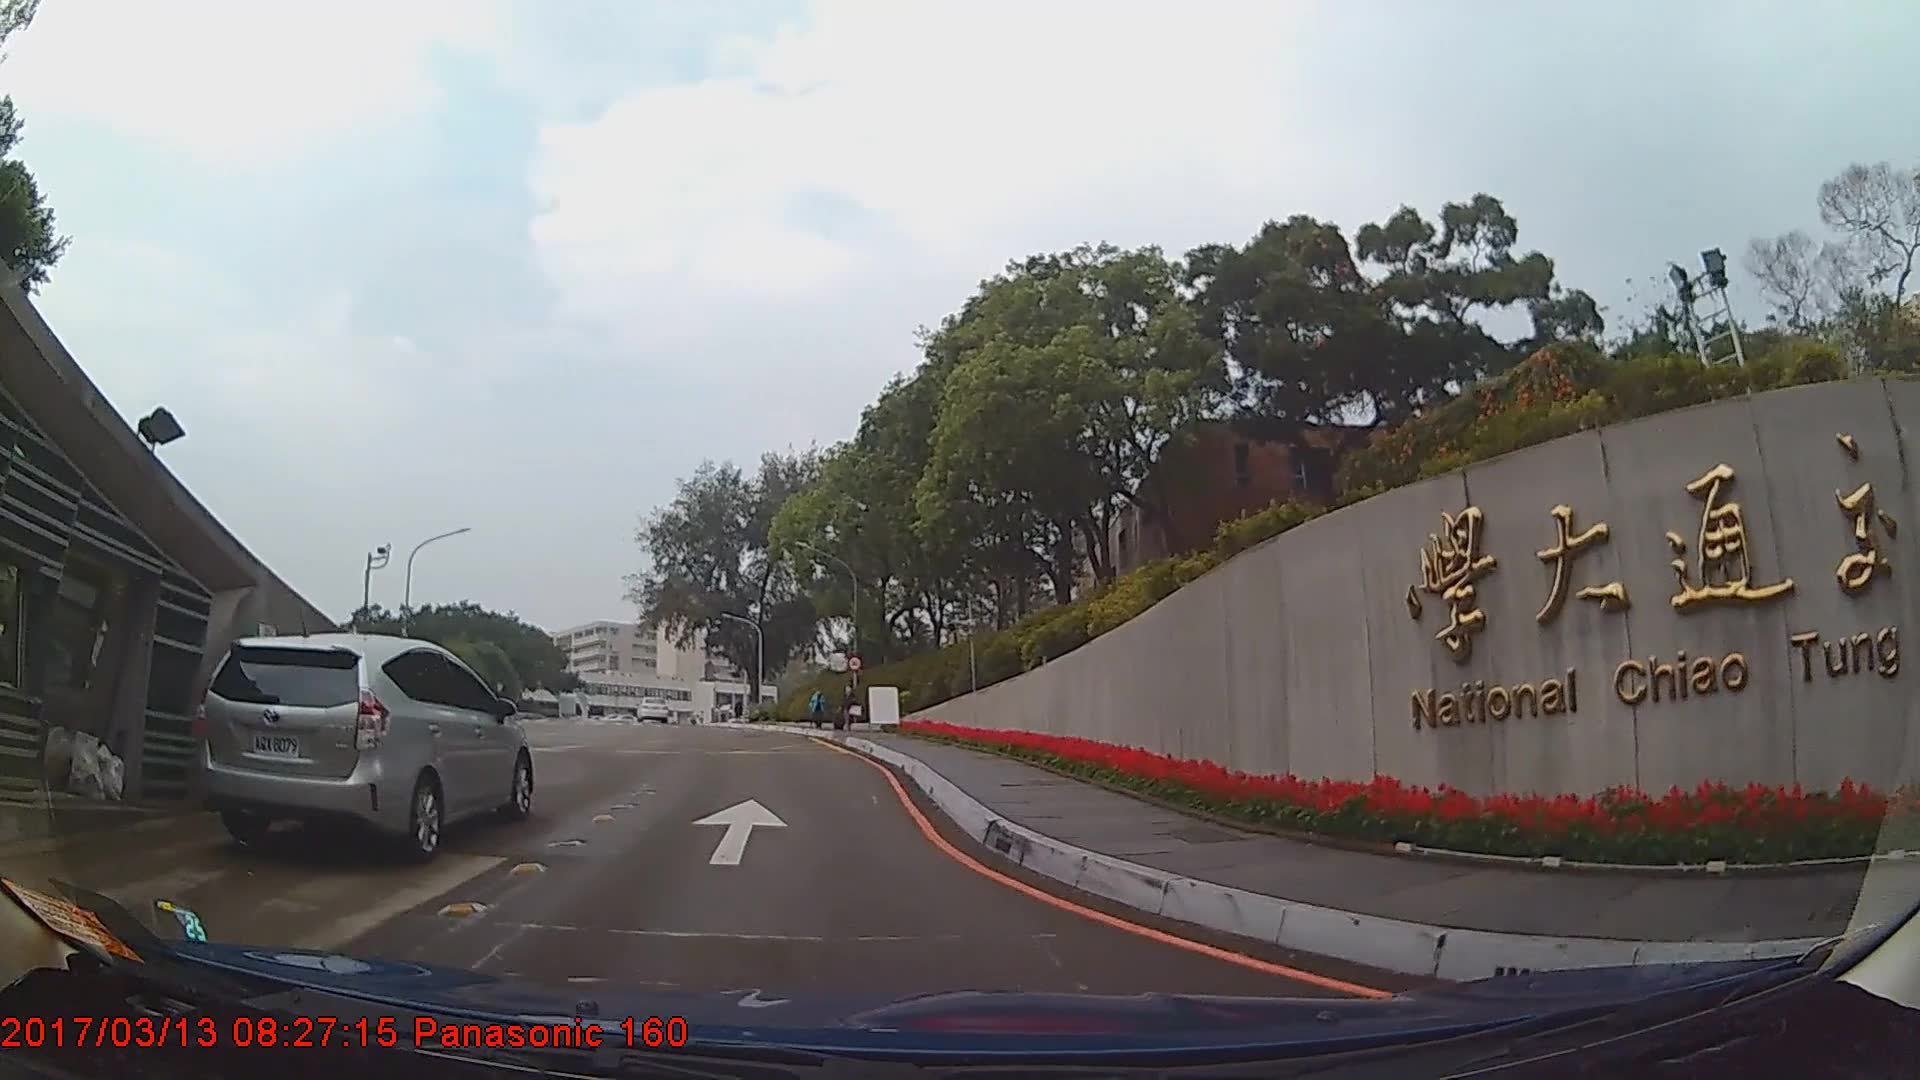pedestrian: (835, 684, 864, 734), (810, 688, 831, 735)
vehicle: (195, 633, 534, 865), (631, 693, 669, 722)
